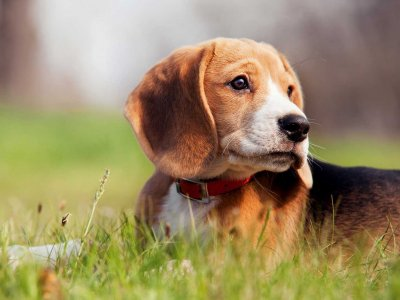dog: (80, 43, 397, 285)
